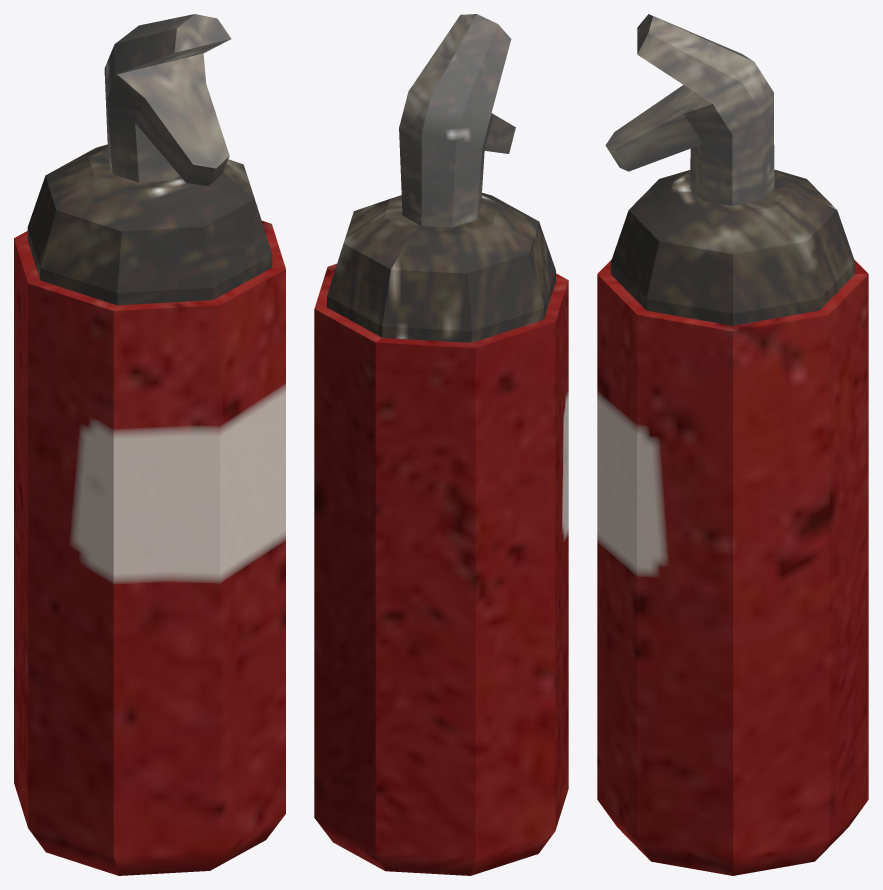
The model's file is fireExtinguisher.fbx.
3 views of the same model, side by side, from view 1: azimuth 30°, elevation 25°; view 2: azimuth 150°, elevation 25°; view 3: azimuth 270°, elevation 25° (orthographic). The views are drawn at different scales.
Parts seen in each view (by area): view 1: fireExtinguisher; view 2: fireExtinguisher; view 3: fireExtinguisher.
Boxes of the visible parts, x1,y1,x2,y2 form: fireExtinguisher: (14,14,285,875); fireExtinguisher: (314,14,568,875); fireExtinguisher: (597,14,868,875).
Size of the model in its own units: 73.14 by 246 by 73.14.
